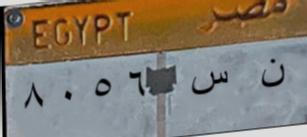0: (56, 83, 78, 108)
5: (93, 74, 114, 102)
6: (121, 70, 147, 102)
8: (20, 80, 46, 113)
noon: (250, 55, 295, 98)
seen: (189, 64, 239, 98)
